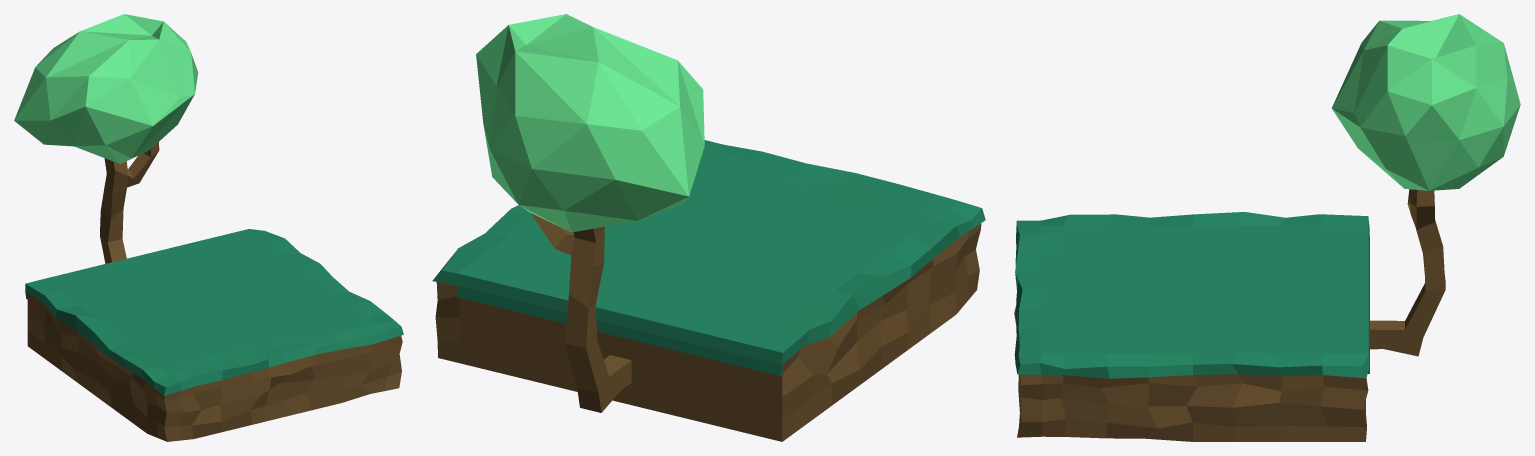
Rendered from GrassTree.fbx.
The picture shows the model from 3 angles, left to right: view 1: azimuth 30°, elevation 25°; view 2: azimuth 150°, elevation 25°; view 3: azimuth 270°, elevation 25°; orthographic projection. The views are drawn at different scales.
Parts seen in each view (by area): view 1: GrassTree; view 2: GrassTree; view 3: GrassTree.
Boxes of the visible parts, x1=… form: GrassTree: x1=14, y1=14, x2=403, y2=441; GrassTree: x1=432, y1=14, x2=985, y2=441; GrassTree: x1=1014, y1=14, x2=1520, y2=441.
Bounding box in the file's own units: 8.34 × 8.64 × 11.72.
